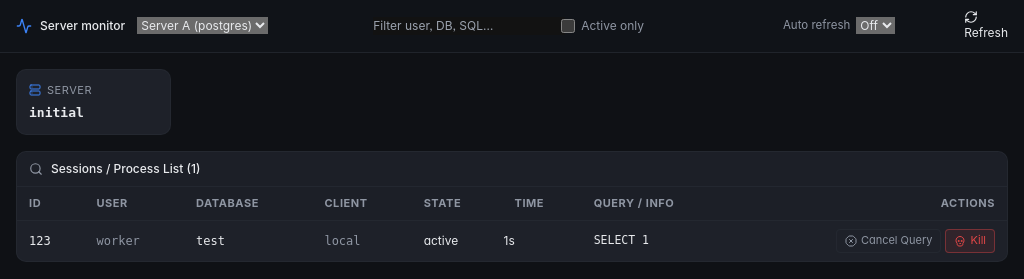
Test: ServerMonitorView › keeps the latest automatic refresh when responses arrive out of order
Select "2s" in the dropdown named "Auto refresh" at (876, 26), box [856, 17, 895, 34]
Wait 4000 ms
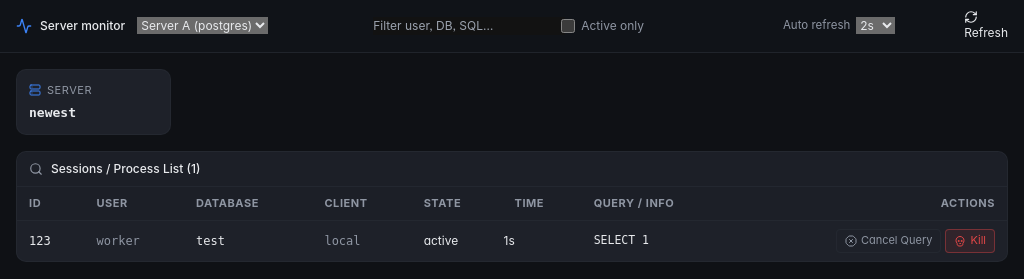
Expected: the text "newest" is shown, [29, 104, 76, 120]
